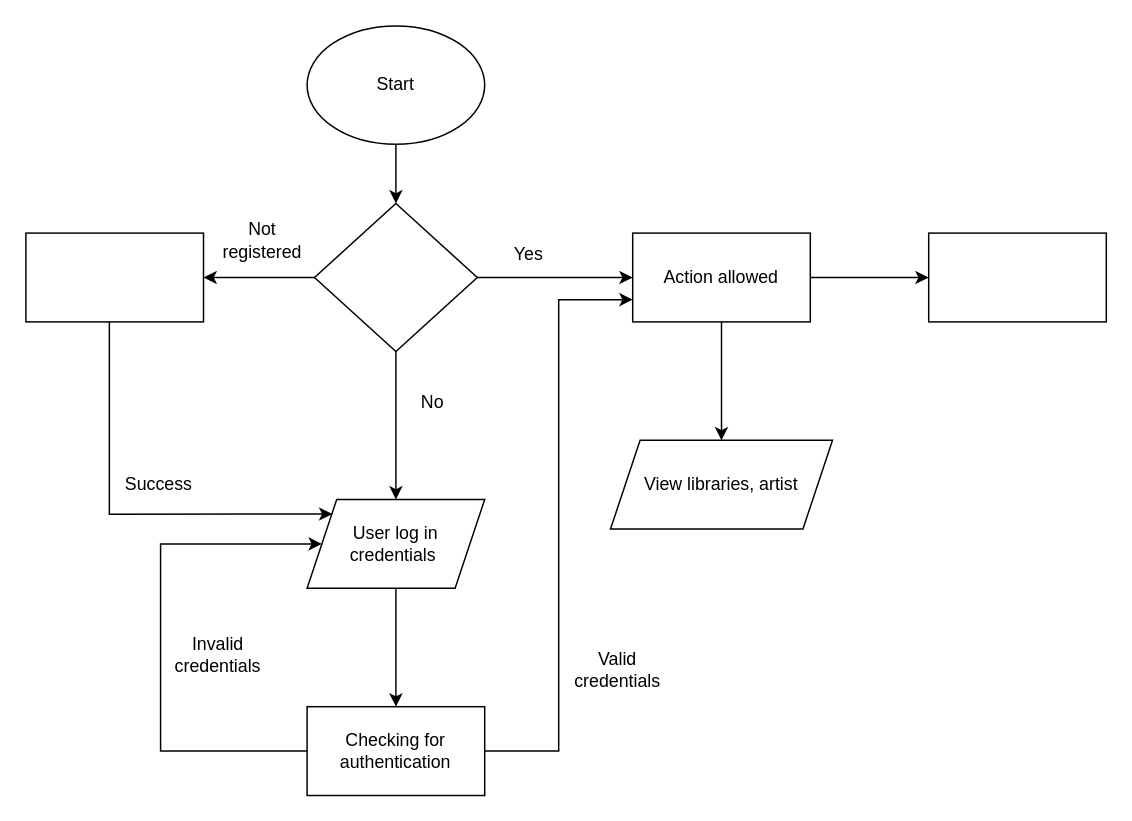
Image size: 1132x821. Some labels were removed from this diagram. The box of each missing label's shape, as (x1, y1, x2, y2) in pixels:
Create playlist: (927, 232, 1106, 322)
Is user login?: (313, 202, 477, 352)
User Registration: (24, 232, 204, 322)
